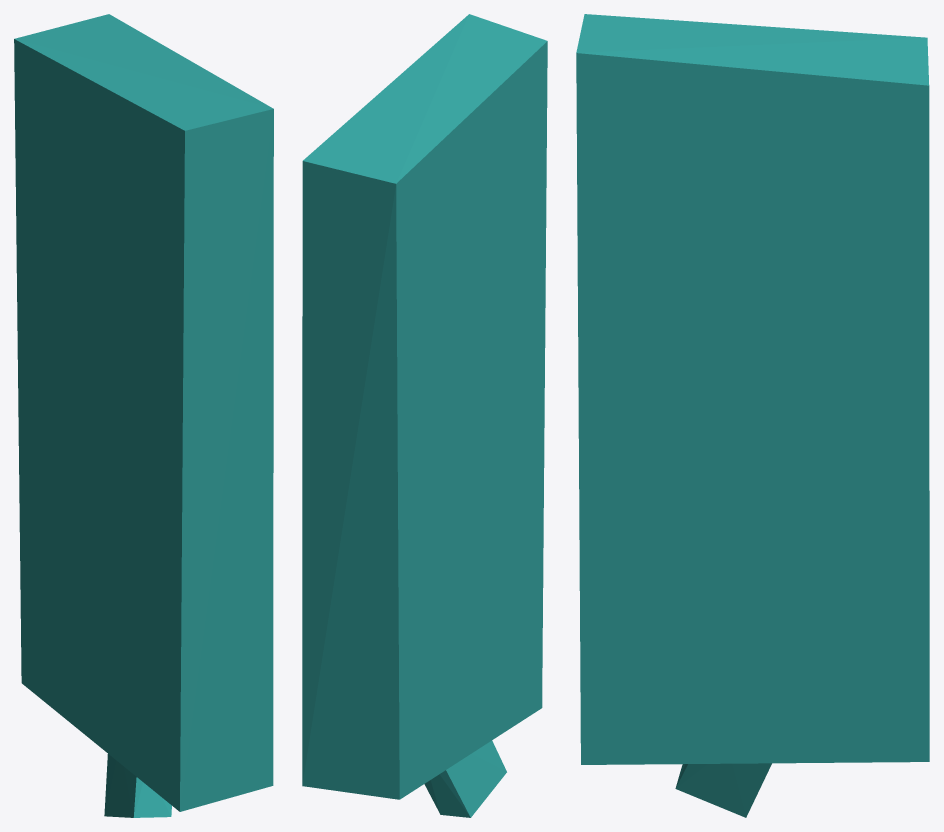
3 renders of one model, left to right at view 1: azimuth 30°, elevation 25°; view 2: azimuth 150°, elevation 25°; view 3: azimuth 270°, elevation 25°, orthographic. The views are drawn at different scales.
Visible parts, largest first — view 1: 358_Cube.1462; view 2: 358_Cube.1462; view 3: 358_Cube.1462.
Part boxes in pixels (x1,y1,x2,y2): 358_Cube.1462: (14, 14, 273, 817); 358_Cube.1462: (302, 14, 547, 817); 358_Cube.1462: (576, 14, 929, 817).
Bounding box in the file's own units: 1.75 × 13.2 × 5.34.
